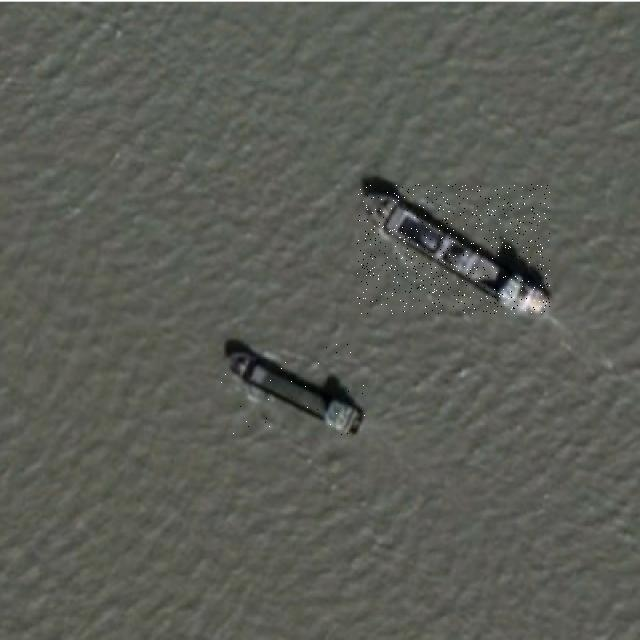boat: (357, 184, 550, 314), (221, 344, 365, 435)
